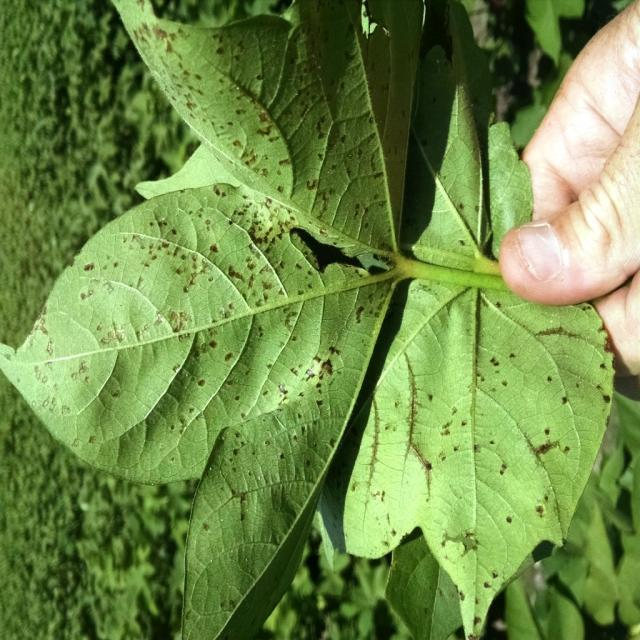Bacterial Blight: (166, 29, 383, 220), (120, 223, 310, 389)
